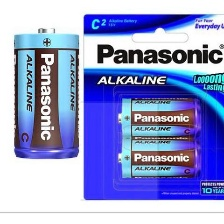battery: (11, 25, 79, 159), (116, 96, 204, 140), (116, 138, 202, 179)
book: (80, 11, 224, 201)
